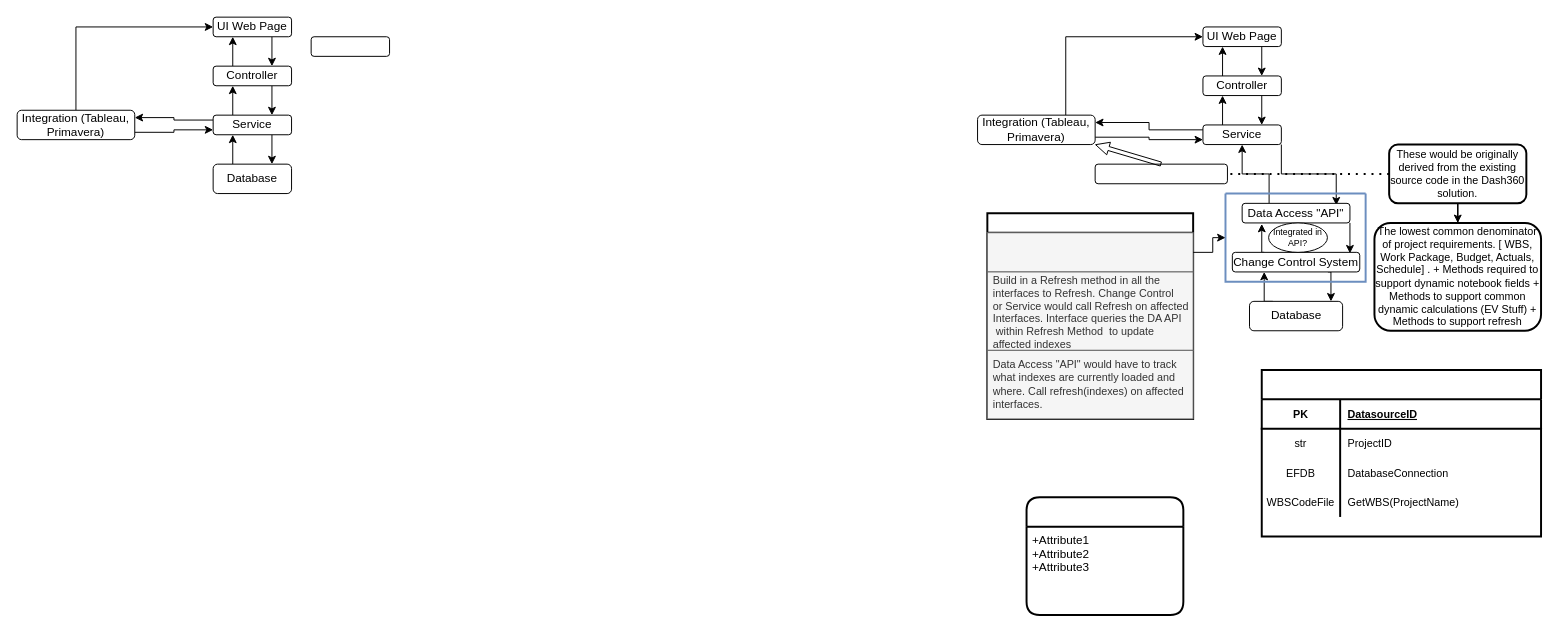
Image size: 1559x633. Some labels were removed from this diagram. Each missing label, with the box of its shape:
Cache: (310, 36, 390, 56)
Cost Summary Datasource: (1260, 368, 1542, 537)
Entity: (1025, 496, 1184, 615)
Interfaces/Datasources: (1094, 163, 1227, 184)
Manage change here instead of having to worry about it in Service: (986, 232, 1193, 272)
